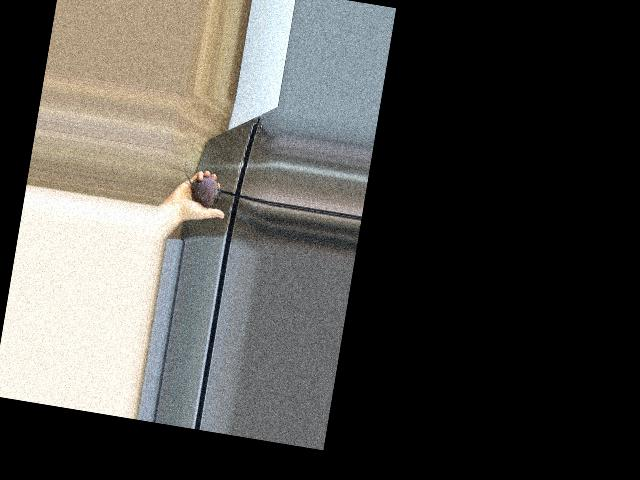beet: (178, 159, 225, 209)
